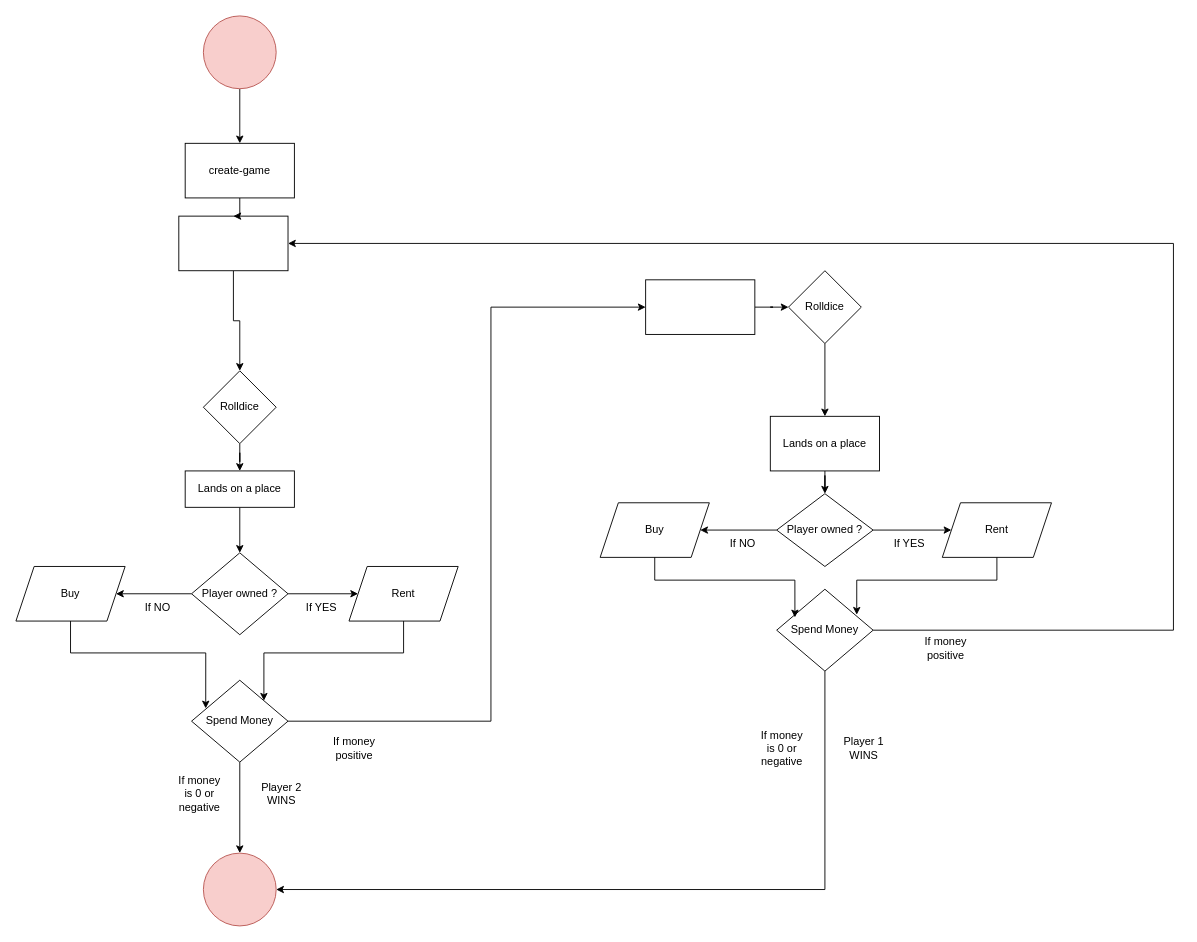
This 1197x942 diagram has some shape labels left out. The shapes that lost their labels are listed below. From the top down, each one's box as (x1, y1, x2, y2) in pixels, then its label:
(202, 15, 276, 89): START
(178, 215, 288, 271): Player 1
(645, 279, 755, 334): Player 2
(202, 852, 276, 926): END
